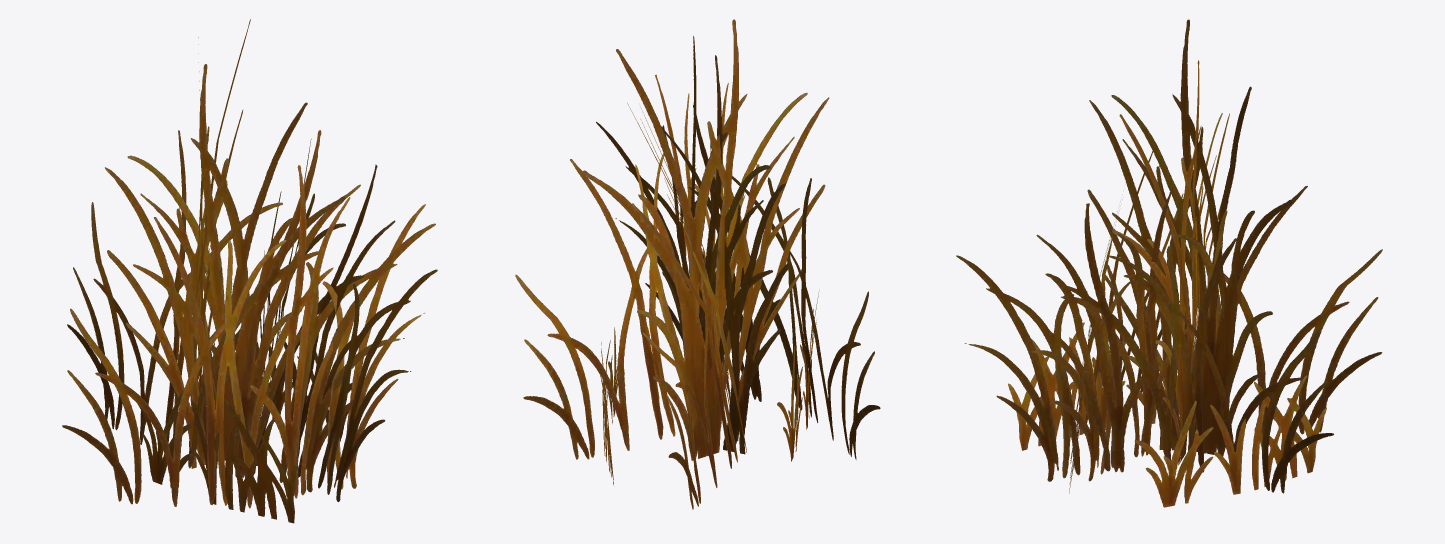
3 views of the same model, side by side, from view 1: azimuth 30°, elevation 25°; view 2: azimuth 150°, elevation 25°; view 3: azimuth 270°, elevation 25° (orthographic). The views are drawn at different scales.
Parts seen in each view (by area): view 1: SM_HL_Grass_Long_01_B_LOD0; view 2: SM_HL_Grass_Long_01_B_LOD0; view 3: SM_HL_Grass_Long_01_B_LOD0.
Boxes of the visible parts, x1,y1,x2,y2 form: SM_HL_Grass_Long_01_B_LOD0: [62, 19, 437, 523]; SM_HL_Grass_Long_01_B_LOD0: [515, 19, 880, 509]; SM_HL_Grass_Long_01_B_LOD0: [956, 19, 1382, 507].
Size of the model in its own units: 0.8367 by 0.9538 by 0.9784.
Materials: 1 (1 with a texture image).
